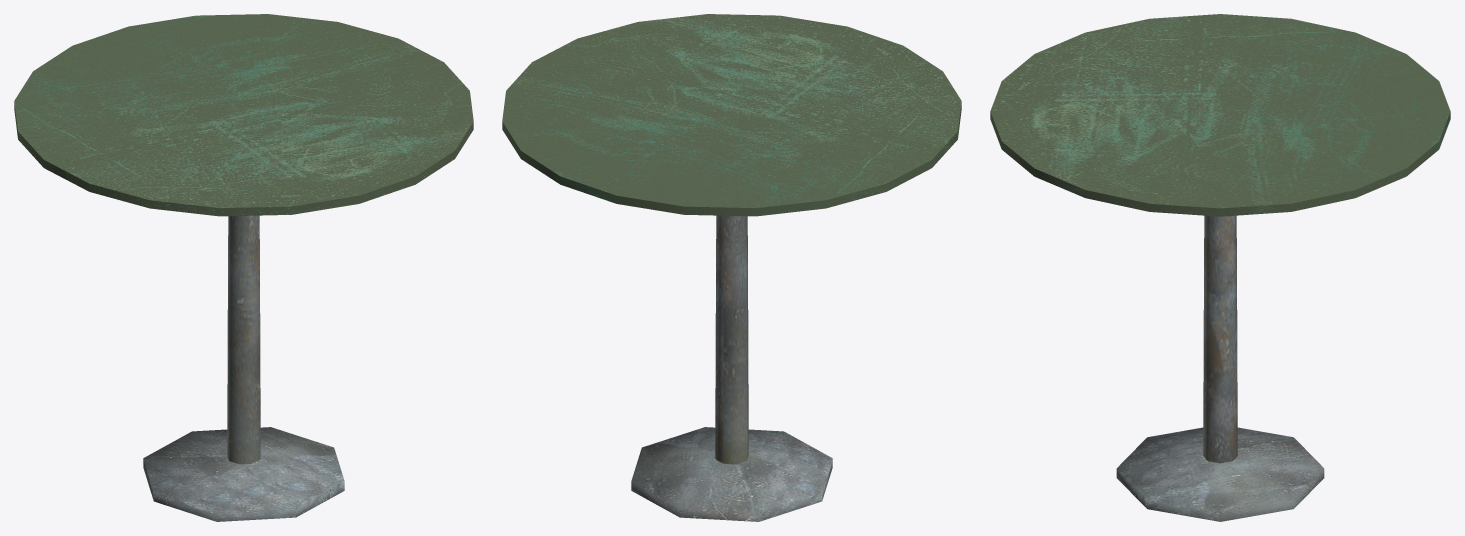
The model's file is furniture_table3.dae.
3 renders of one model, left to right at view 1: azimuth 30°, elevation 25°; view 2: azimuth 150°, elevation 25°; view 3: azimuth 270°, elevation 25°, orthographic.
Visible parts, largest first — view 1: table3; view 2: table3; view 3: table3.
Boxes of the visible parts, left/top/right/bottom form: table3: left=14, top=14, right=473, bottom=521; table3: left=502, top=14, right=961, bottom=521; table3: left=990, top=14, right=1450, bottom=521.
Size of what is drawn, in the model's own units: 0.8676 by 0.7634 by 0.8676.
